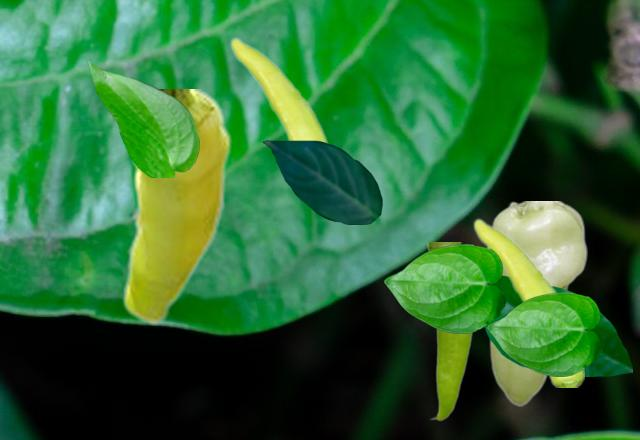green_chili: (121, 89, 231, 324), (487, 201, 586, 405), (473, 217, 583, 386), (230, 36, 328, 142), (426, 242, 471, 420)
